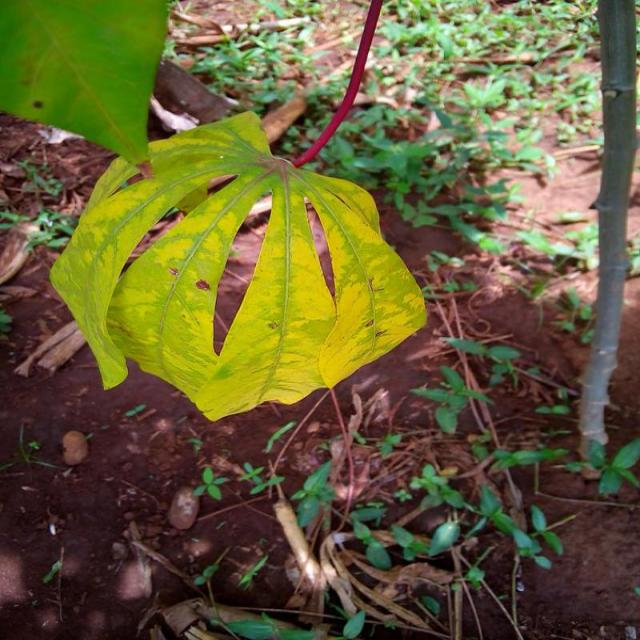cassava leaf: (49, 109, 428, 422), (2, 0, 172, 166)
